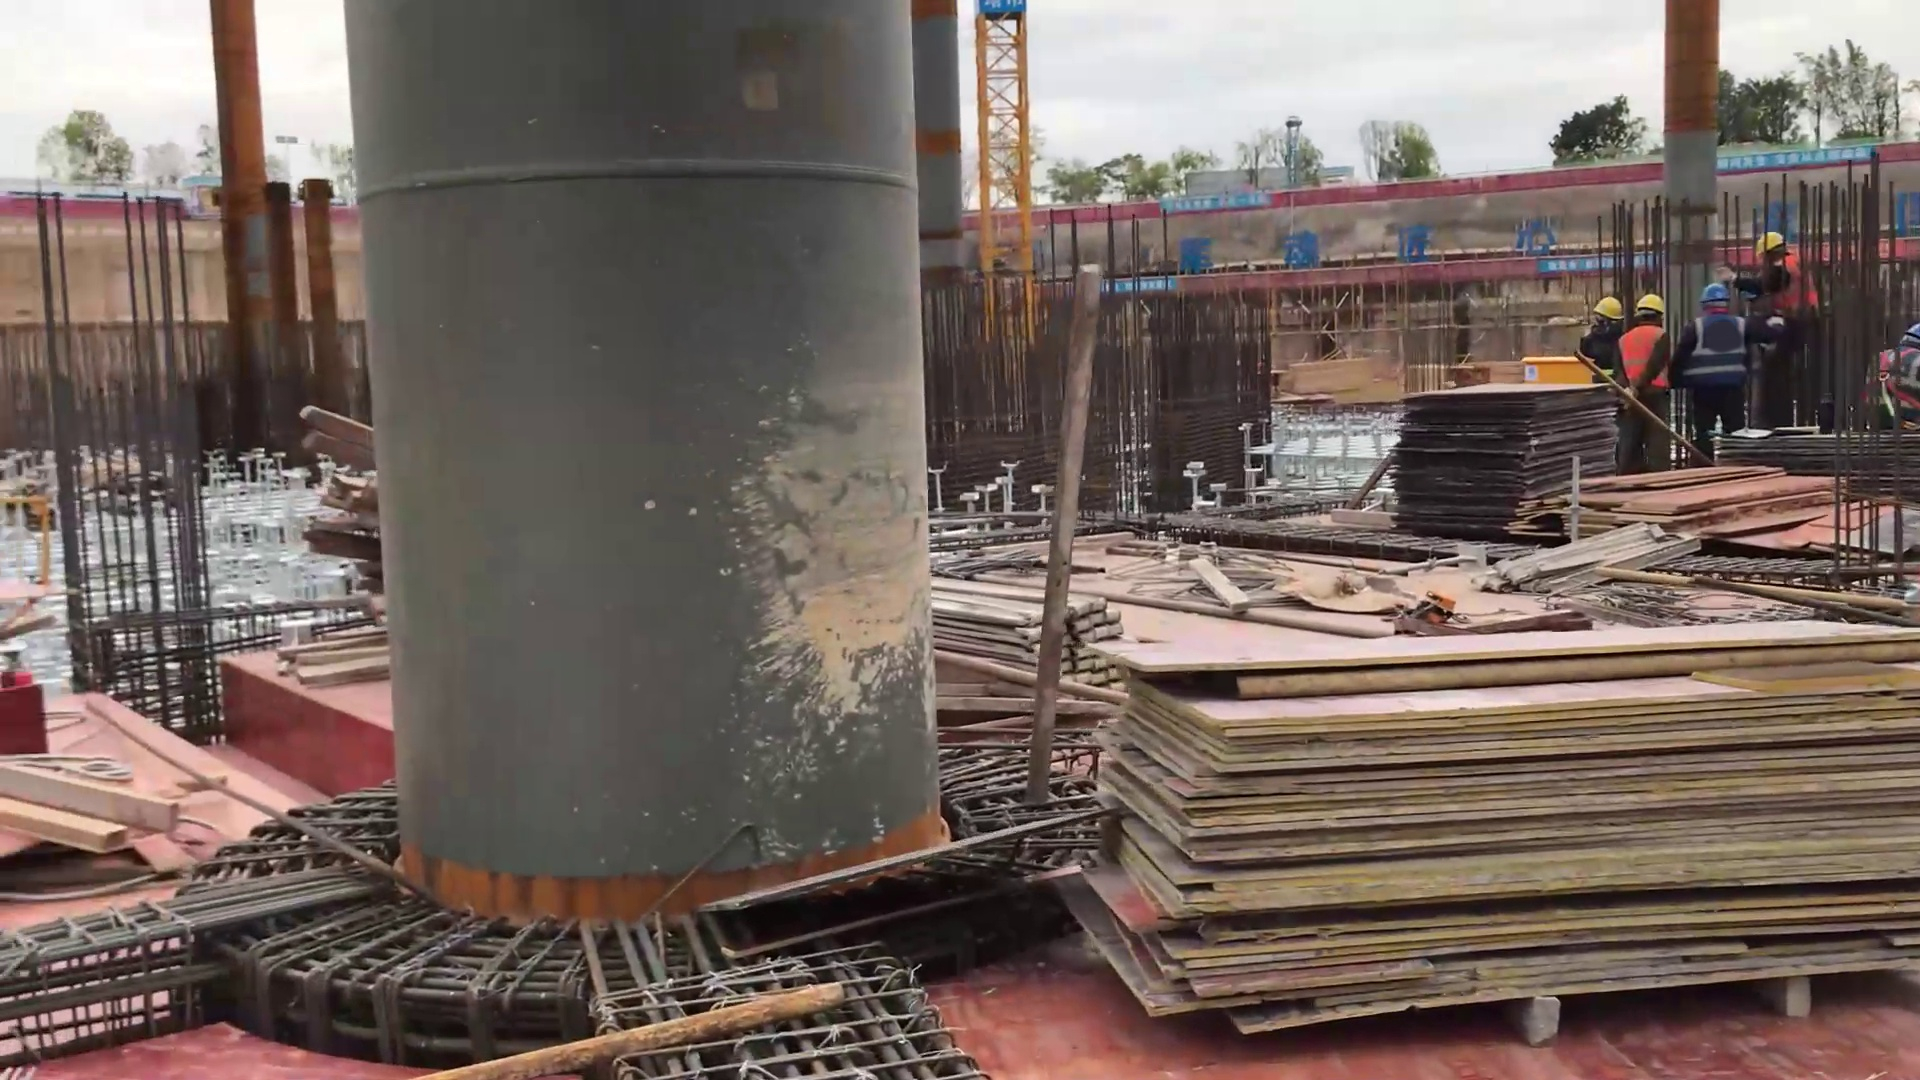helmet: (1757, 228, 1795, 254), (1590, 293, 1626, 318), (1639, 291, 1671, 316), (1694, 279, 1727, 300), (1899, 326, 1920, 343)
person: (1669, 288, 1738, 462), (1619, 288, 1674, 478), (1751, 229, 1833, 336), (1853, 318, 1920, 429), (1590, 292, 1622, 377)
vest: (1687, 311, 1743, 389), (1863, 346, 1916, 413), (1628, 323, 1668, 396), (1773, 262, 1820, 315), (1586, 323, 1621, 367)
